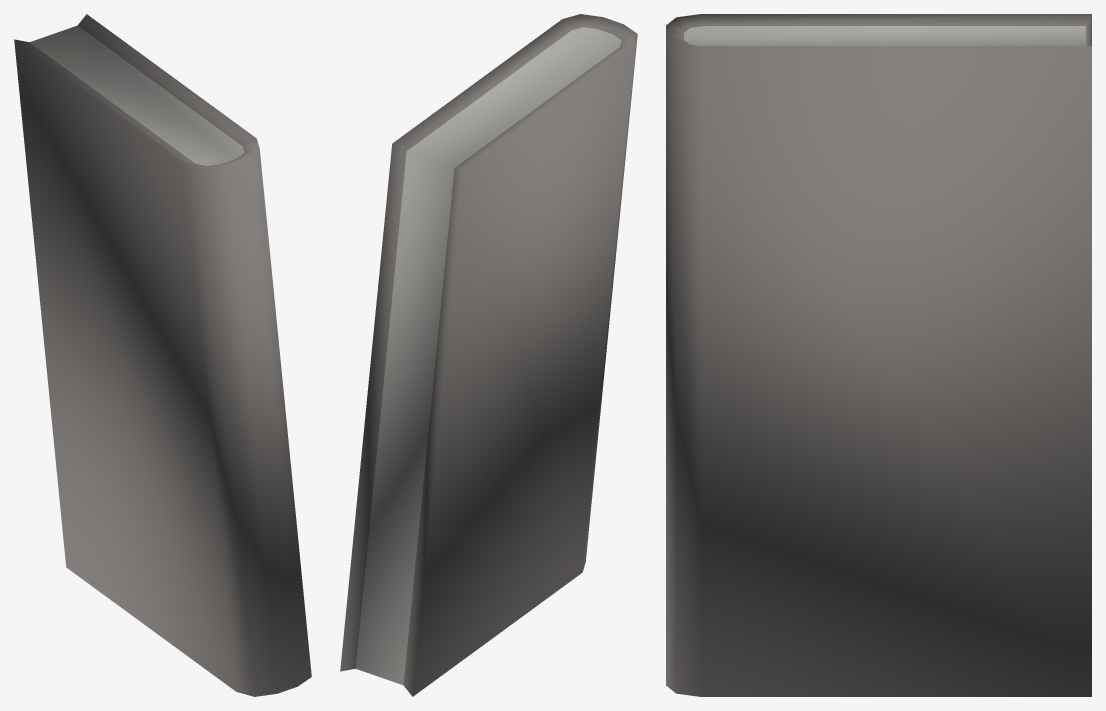
The model's file is Assets.fbx_Book_kipp.fbx.
3 renders of one model, left to right at view 1: azimuth 30°, elevation 25°; view 2: azimuth 150°, elevation 25°; view 3: azimuth 270°, elevation 25°, orthographic. The views are drawn at different scales.
Parts seen in each view (by area): view 1: Book kipp.001; view 2: Book kipp.001; view 3: Book kipp.001.
Boxes of the visible parts, x1,y1,x2,y2 form: Book kipp.001: [14, 14, 311, 696]; Book kipp.001: [340, 14, 637, 696]; Book kipp.001: [666, 14, 1091, 696].
Bounding box in the file's own units: 9.27 × 39.01 × 23.88.
